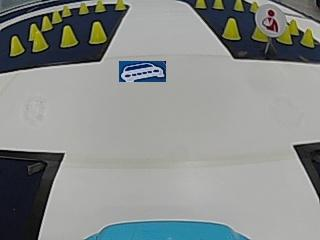cone: (222, 18, 241, 40), (60, 26, 78, 47), (89, 22, 106, 44), (32, 29, 48, 51), (9, 35, 24, 55), (278, 26, 292, 44), (301, 28, 314, 47), (41, 15, 53, 30), (94, 0, 106, 13), (113, 0, 126, 11), (78, 2, 89, 14), (233, 0, 244, 11), (52, 10, 62, 22), (213, 0, 224, 10), (195, 0, 206, 9), (62, 5, 71, 16)
patient: (261, 4, 284, 34)
